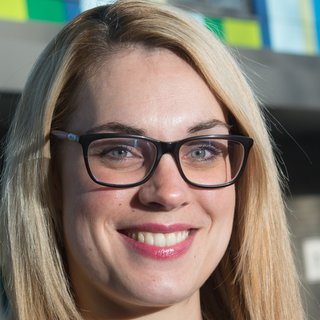eye: (185, 140, 226, 165), (99, 141, 143, 164)
